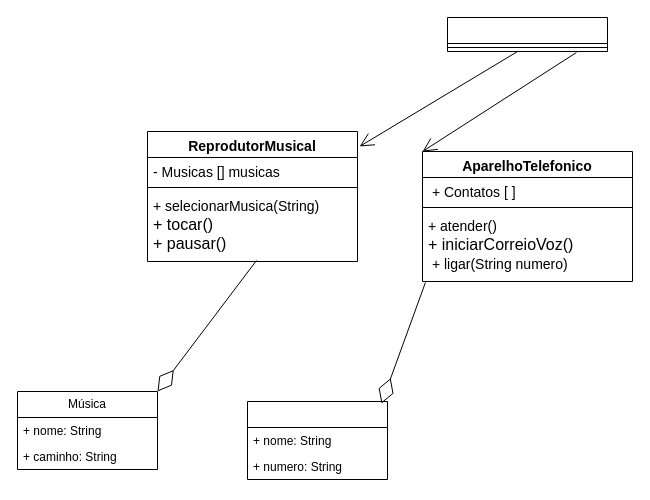
This 650x500 diagram has some shape labels left out. The box of each missing label's shape, as (x1, y1, x2, y2) in pixels:
Cntato: (246, 400, 388, 480)
IPhone: (446, 16, 608, 52)
